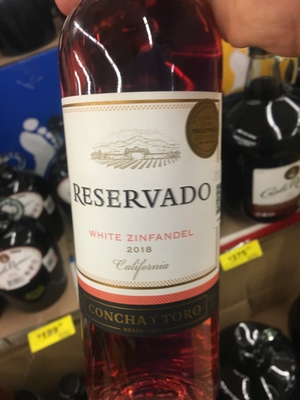reservado white zinfandel: (60, 6, 231, 395)
